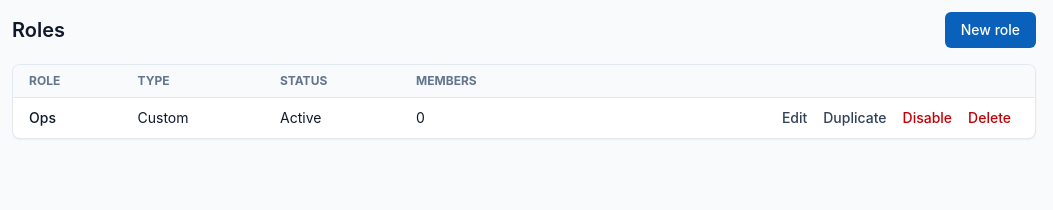
Test: RolesPage › disables with If-Match from the row, and explains a conflict after reloading
This screenshot has width=1053, height=210.
Click the button with aria-label "Disable role Ops": [927, 118] box [894,102,960,134]
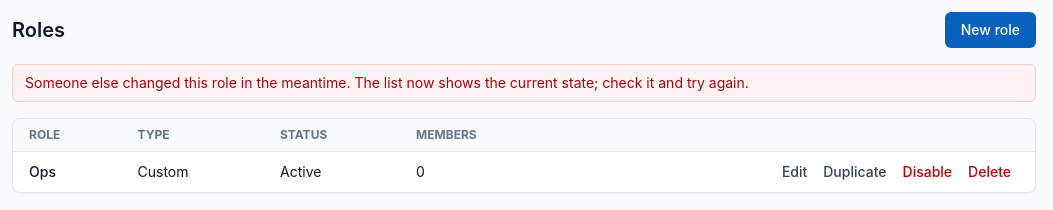
Now the message shows "Someone else changed this role in the meantime. The list now shows the current state; check it and try again.", box [25,74,749,91]
